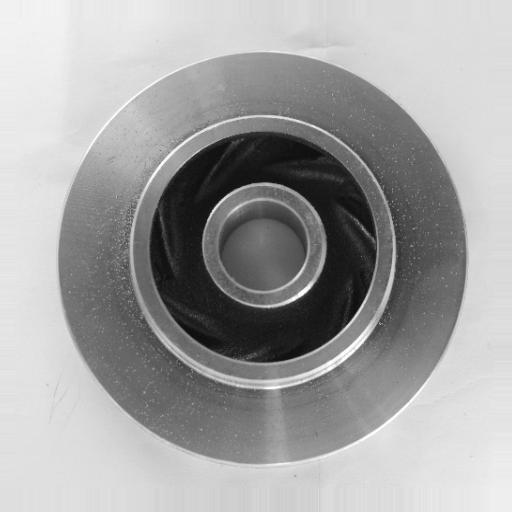polished_casting: (55, 51, 470, 468)
